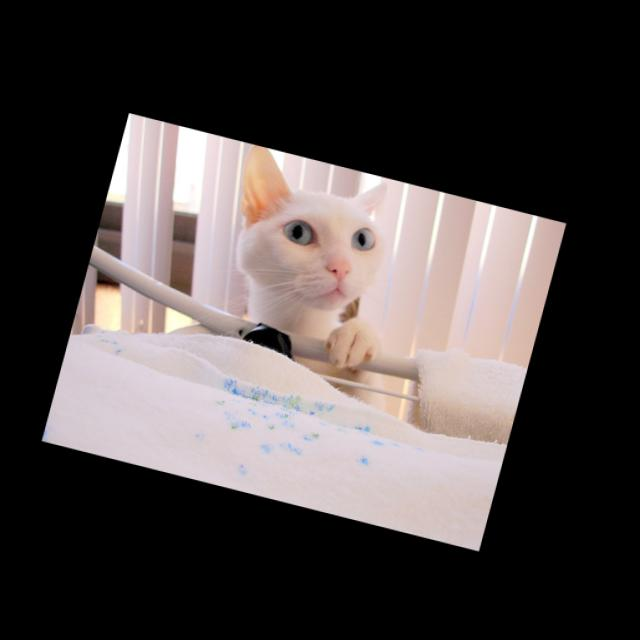animals: (232, 143, 398, 282)
